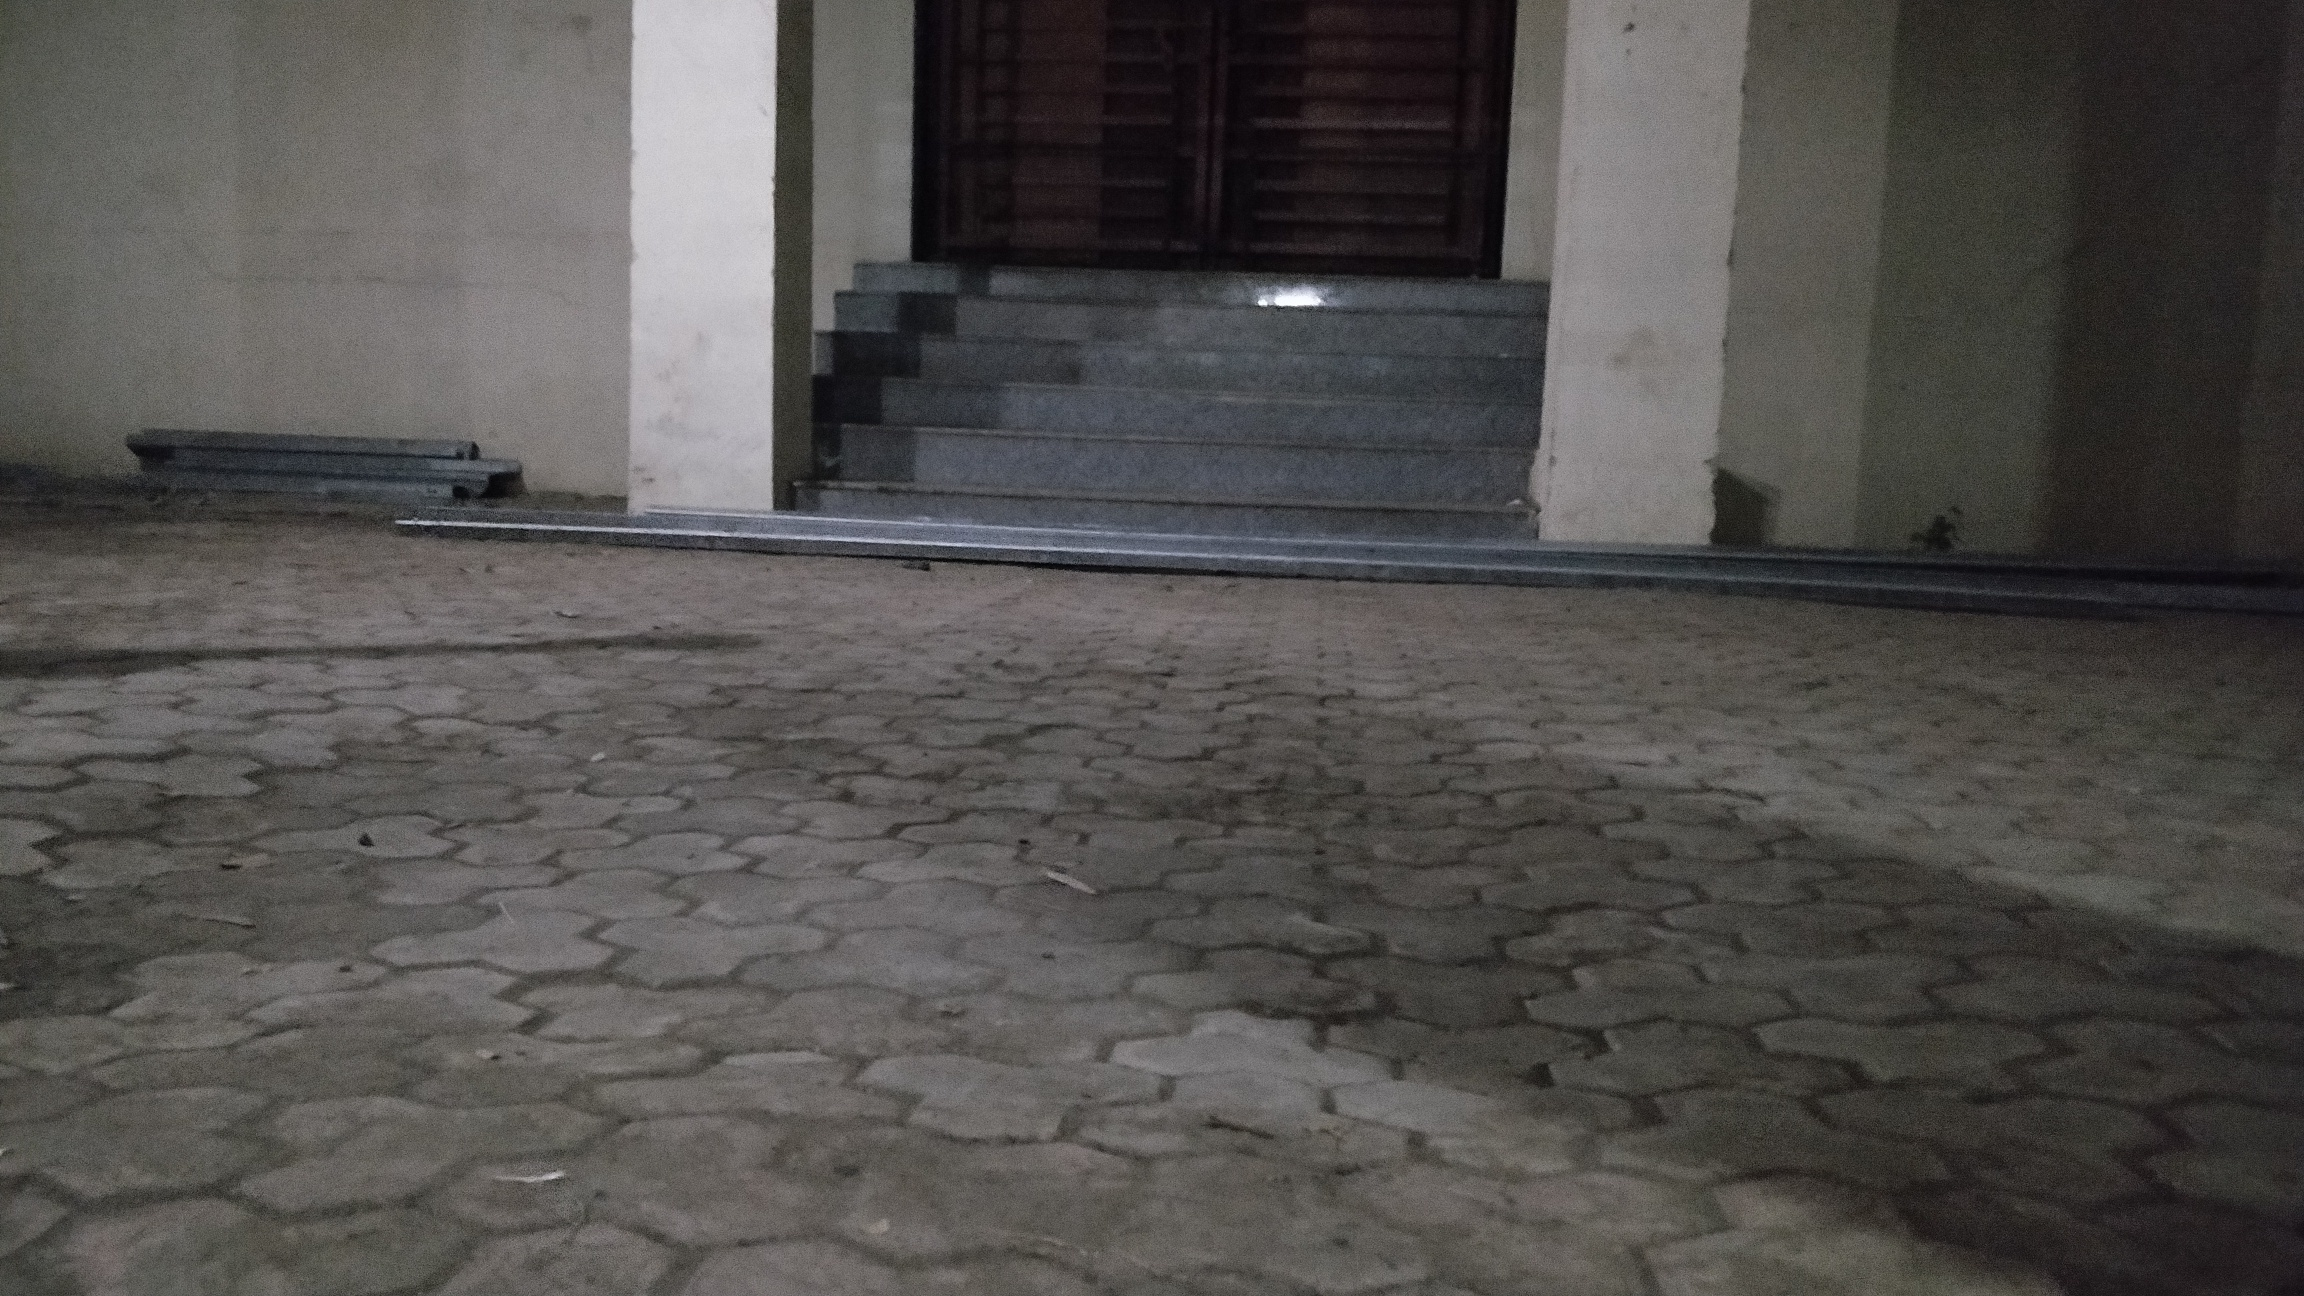stairs_up: (817, 271, 1530, 559)
